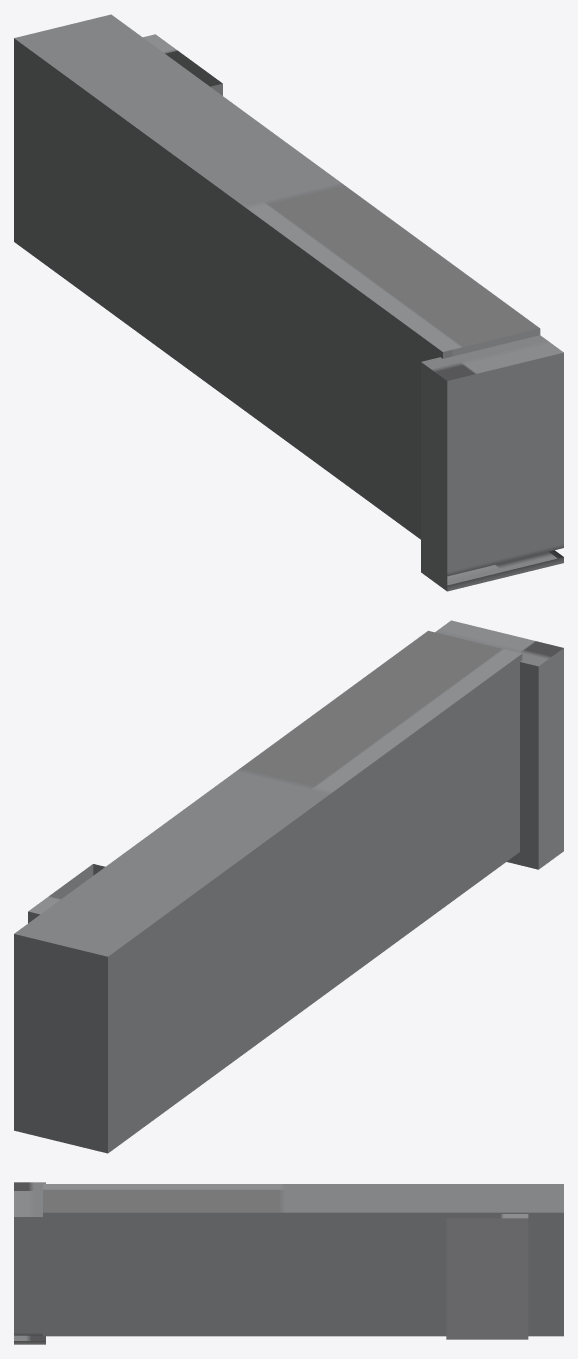
3 renders of one model, top to bottom at view 1: azimuth 30°, elevation 25°; view 2: azimuth 150°, elevation 25°; view 3: azimuth 270°, elevation 25°, orthographic. The views are drawn at different scales.
Size of the model in its own units: 0.2028 by 0.32 by 1.21.
